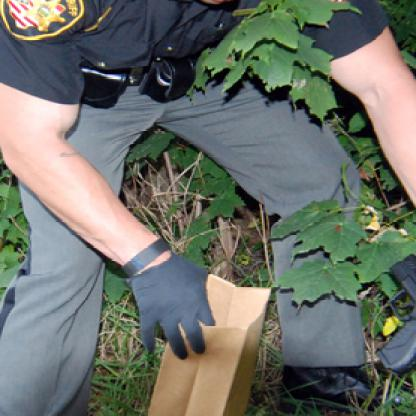gun: (370, 248, 414, 380)
